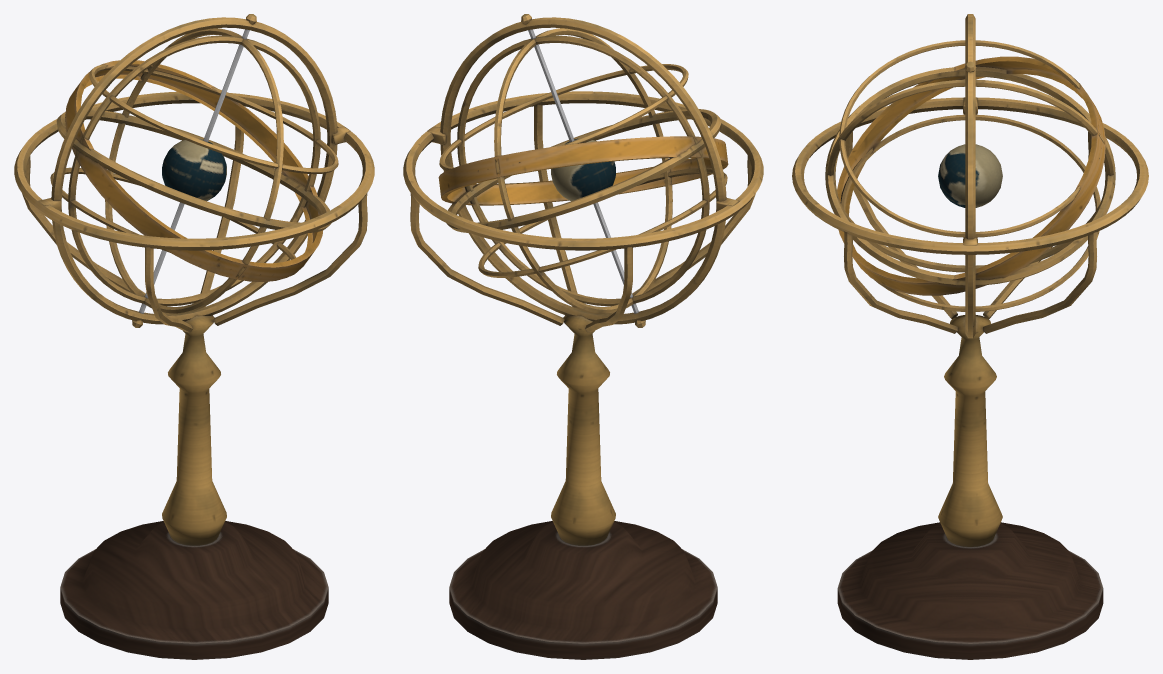
File: ArmillarySphere.fbx
3 views of the same model, side by side, from view 1: azimuth 30°, elevation 25°; view 2: azimuth 150°, elevation 25°; view 3: azimuth 270°, elevation 25° (orthographic).
Parts seen in each view (by area): view 1: ArmillarySphere_Main, ArmillarySphere_Rings; view 2: ArmillarySphere_Main, ArmillarySphere_Rings; view 3: ArmillarySphere_Main, ArmillarySphere_Rings.
Boxes of the visible parts, left/top/right/bottom form: ArmillarySphere_Main: left=14, top=17, right=374, bottom=659; ArmillarySphere_Rings: left=50, top=14, right=338, bottom=327; ArmillarySphere_Main: left=403, top=17, right=763, bottom=659; ArmillarySphere_Rings: left=438, top=14, right=728, bottom=327; ArmillarySphere_Main: left=792, top=14, right=1148, bottom=659; ArmillarySphere_Rings: left=825, top=40, right=1115, bottom=311.
Bounding box in the file's own units: 242 × 430 × 242.
